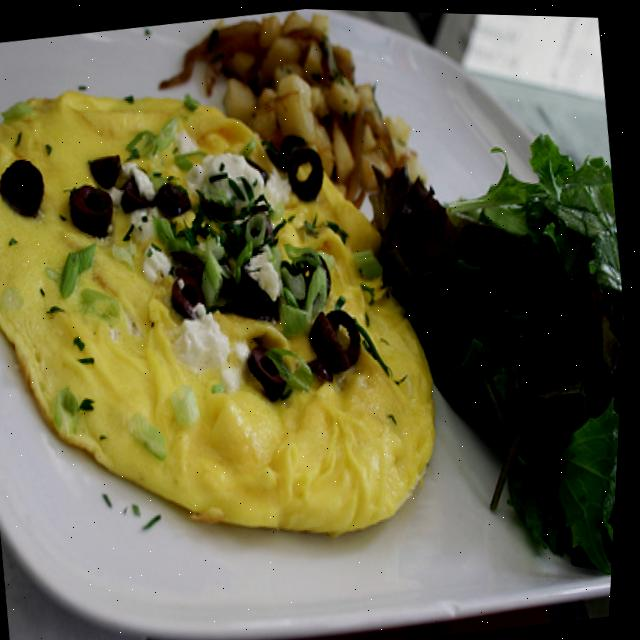鸡蛋料理: (0, 24, 485, 602)
